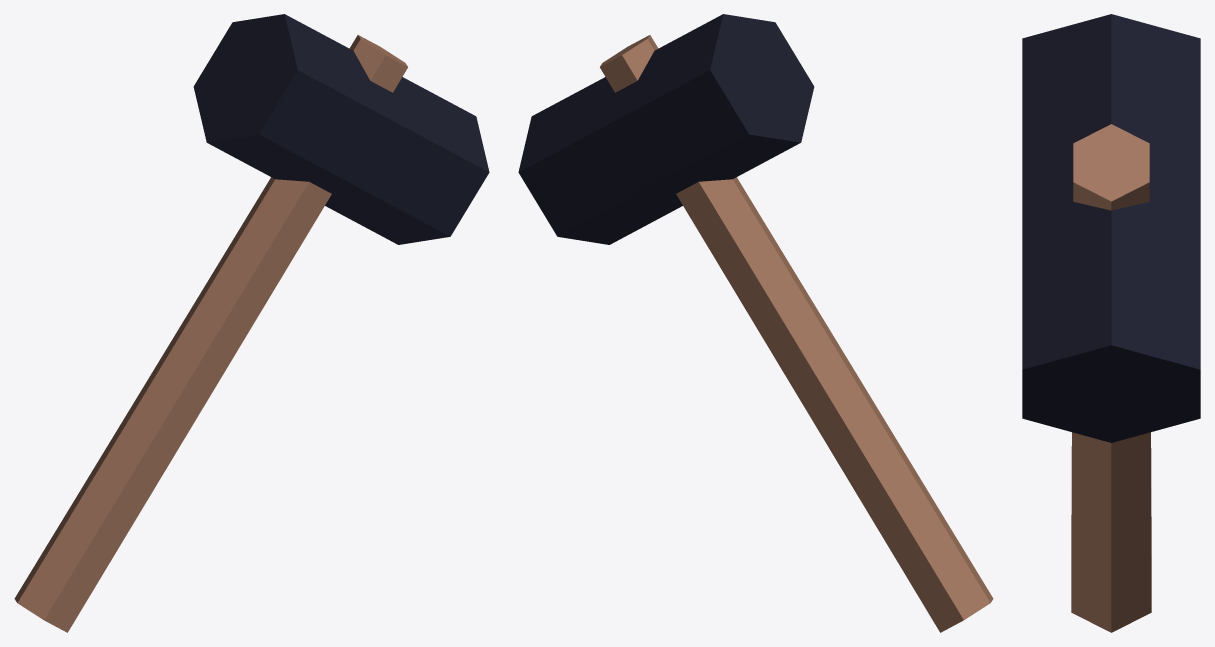
File: hammer.003.fbx
The picture shows the model from 3 angles, left to right: view 1: azimuth 30°, elevation 25°; view 2: azimuth 150°, elevation 25°; view 3: azimuth 270°, elevation 25°; orthographic projection. The views are drawn at different scales.
Visible parts, largest first — view 1: hammer.003; view 2: hammer.003; view 3: hammer.003.
Part boxes in pixels (x1,y1,x2,y2): hammer.003: (14, 14, 489, 632); hammer.003: (518, 14, 993, 632); hammer.003: (1022, 14, 1200, 632).
Bounding box in the file's own units: 66.1 × 77.18 × 16.29.
